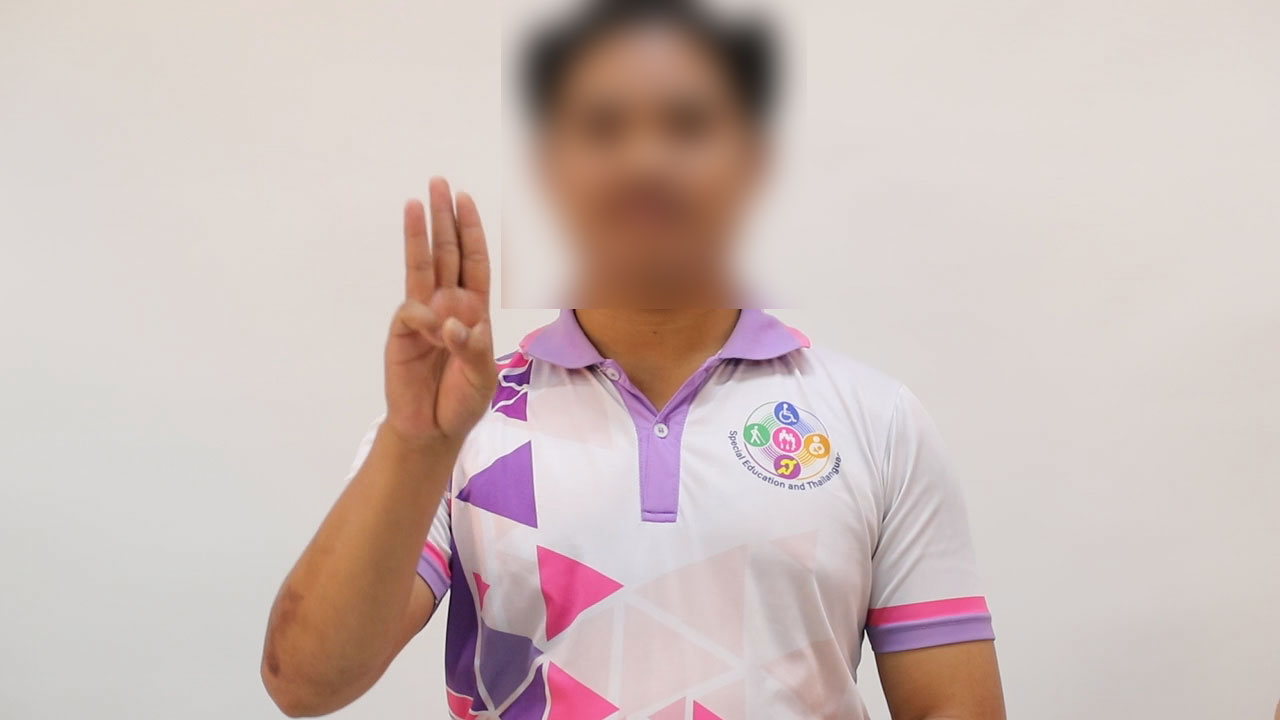wor: (372, 170, 506, 457)
